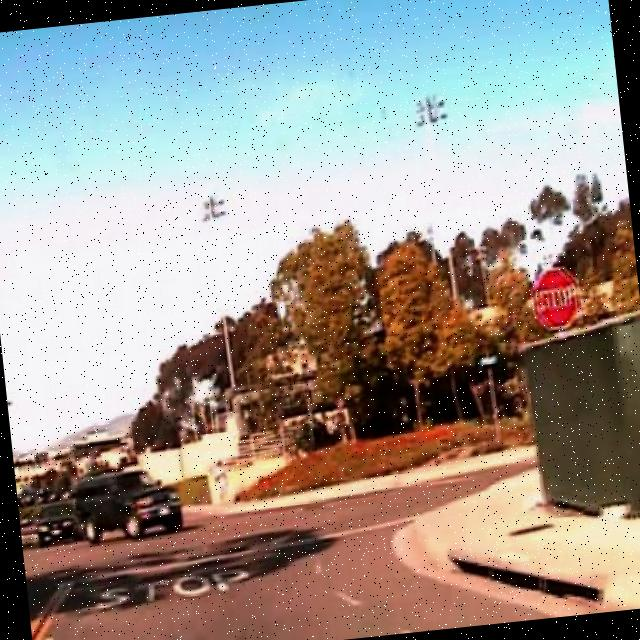Stop: (530, 266, 584, 336)
